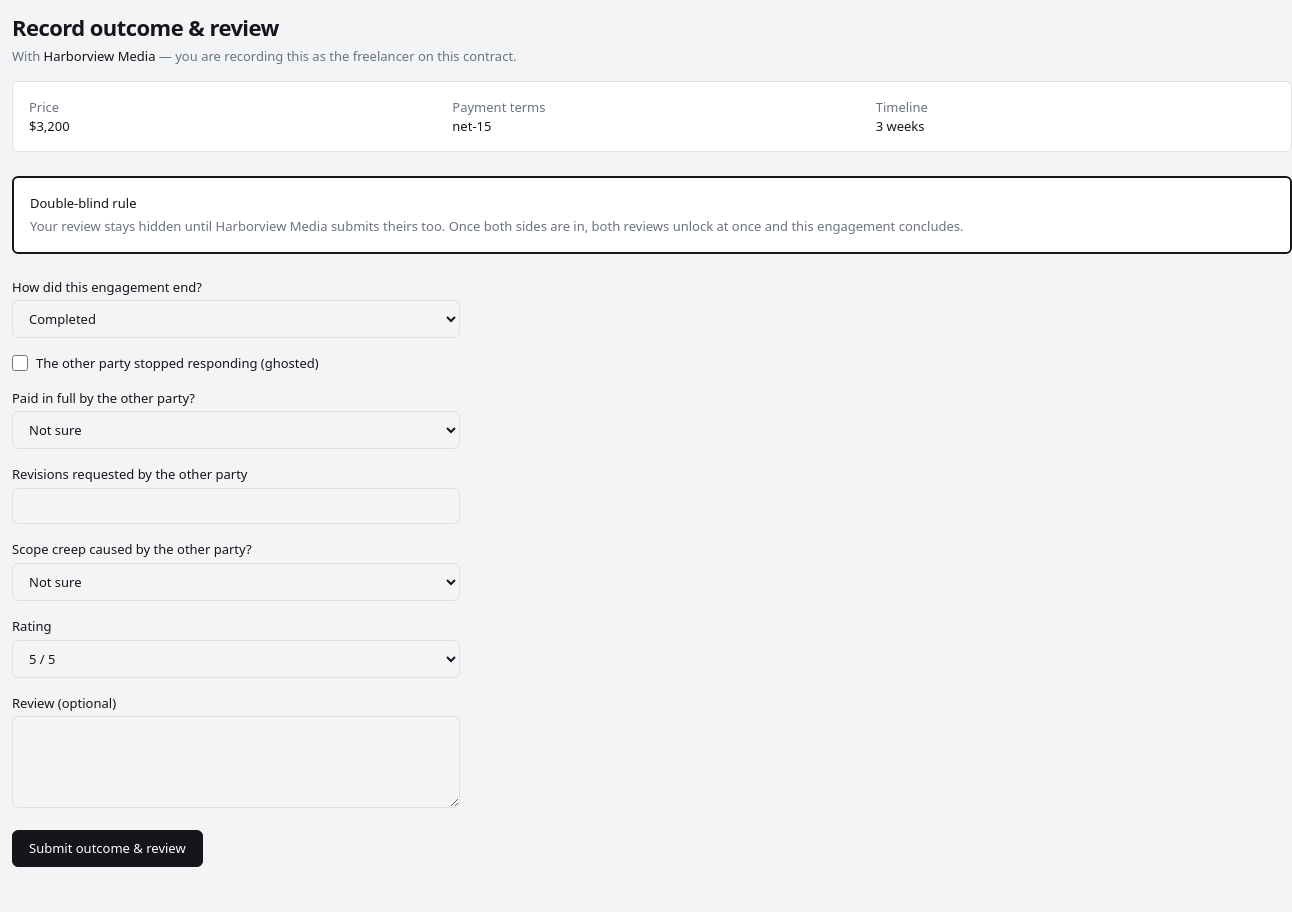
Scenario: RecordOutcome › shows the "waiting for counterparty" state after a submission that leaves the engagement active
Select "Completed" in the dropdown labelled "How did this engagement end?" at (236, 319), box [12,300,460,338]
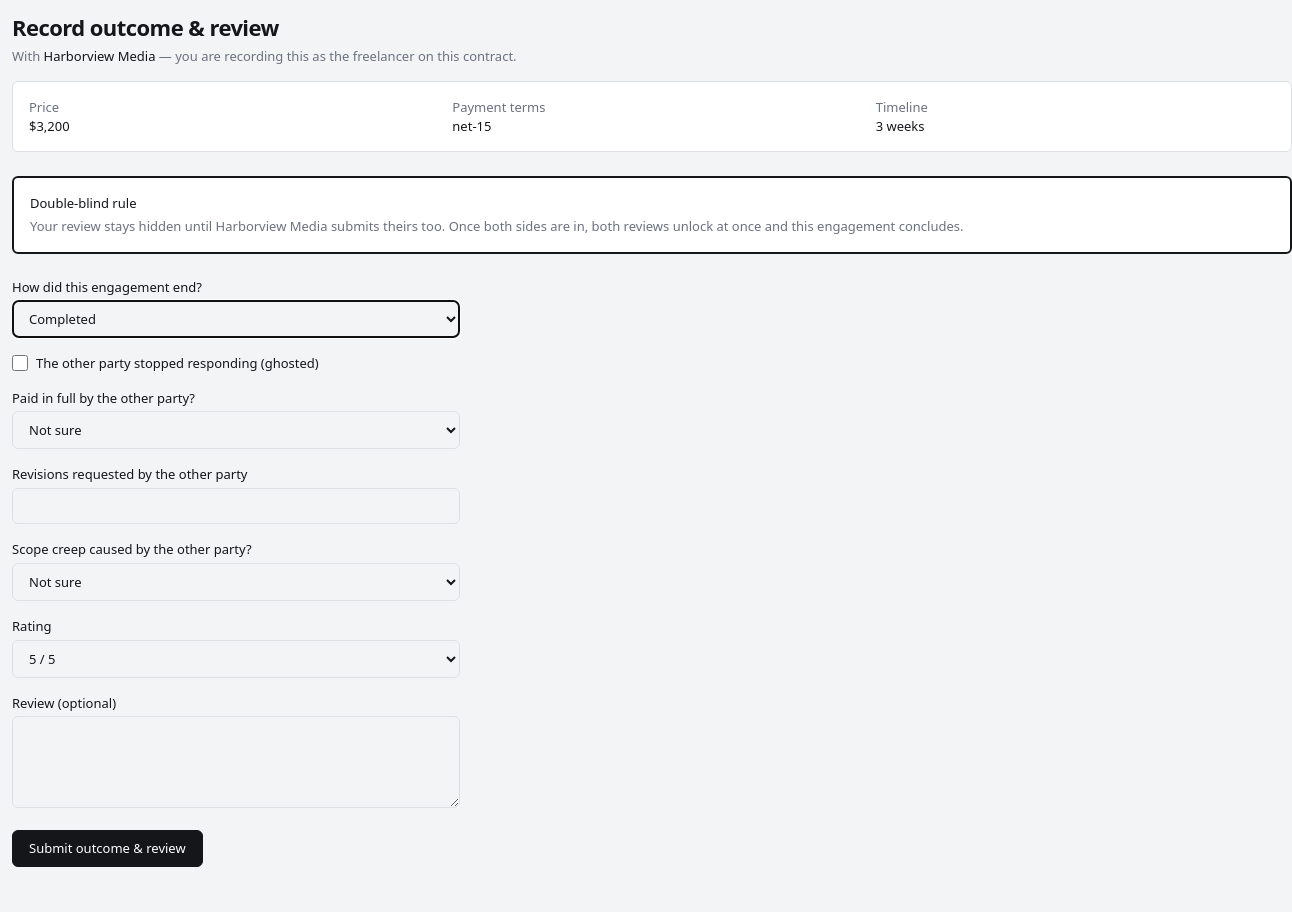
Select "5 / 5" in the dropdown labelled "Rating" at (236, 658), box [12,640,460,678]
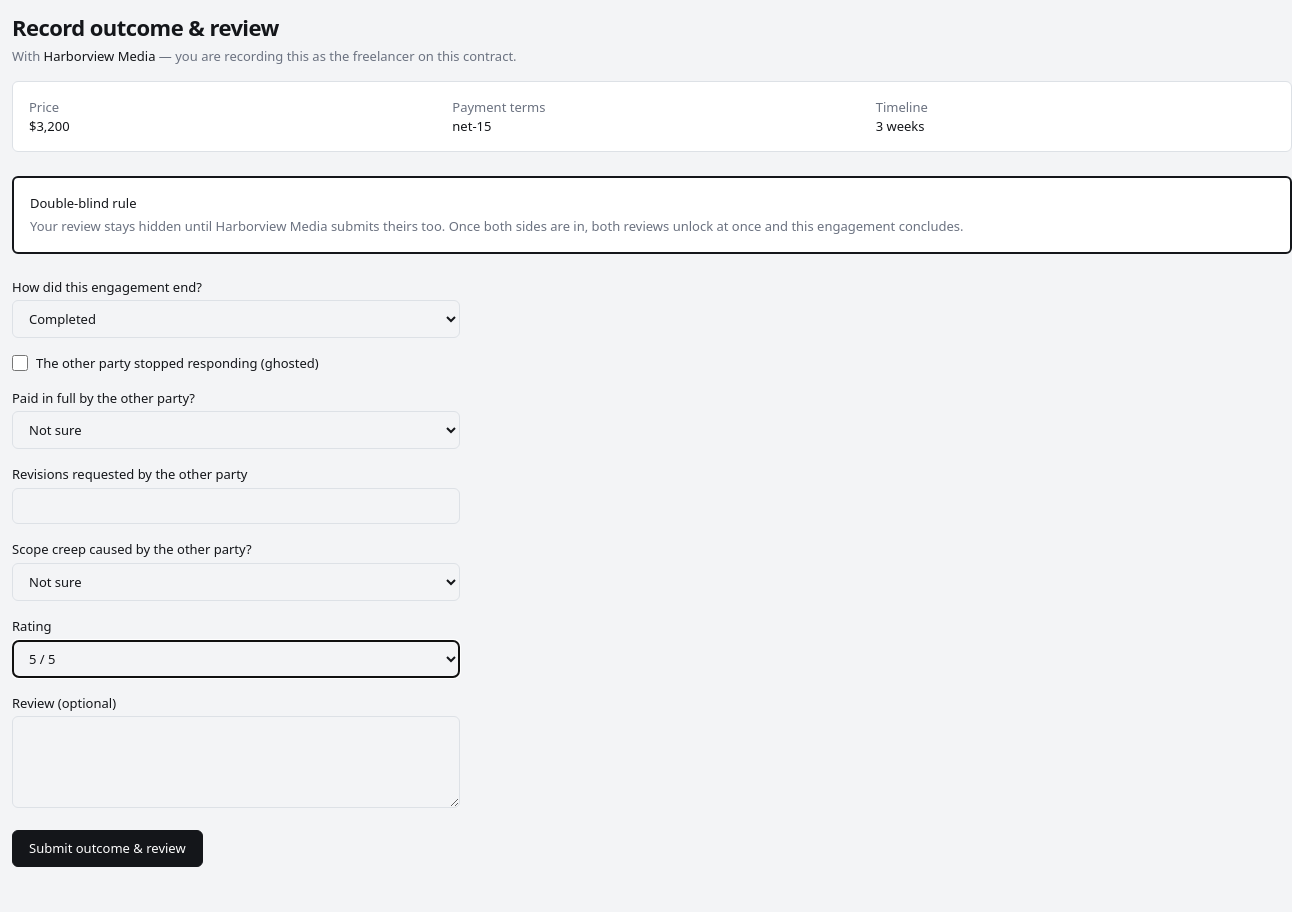
Click the button "Submit outcome & review".
click(107, 849)  # box [12,830,203,867]
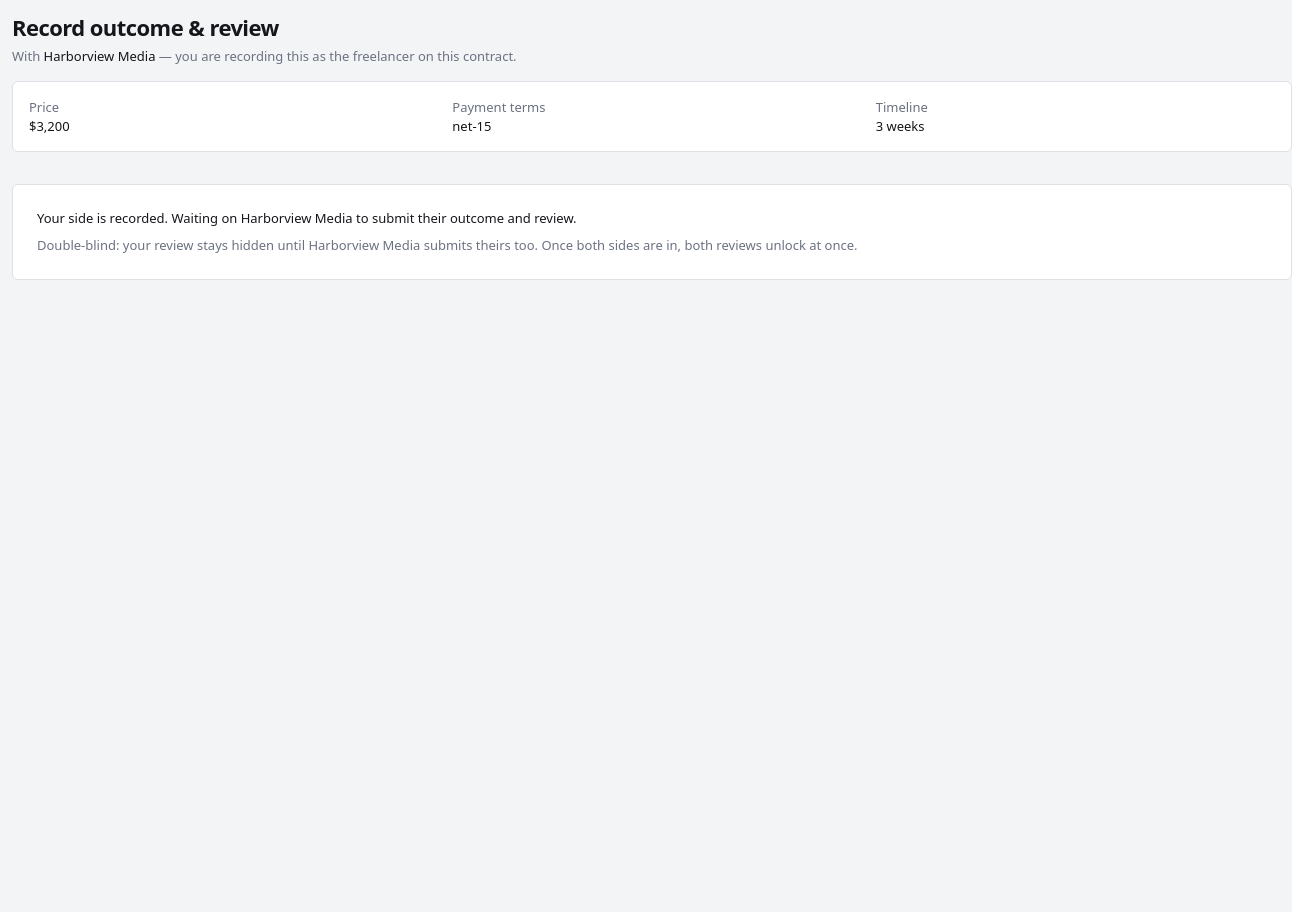
expect the text "Your side is recorded. Waiting on Harborview Media" is shown: met, box [37,210,577,228]
expect the button "Submit outcome" is gone: met
